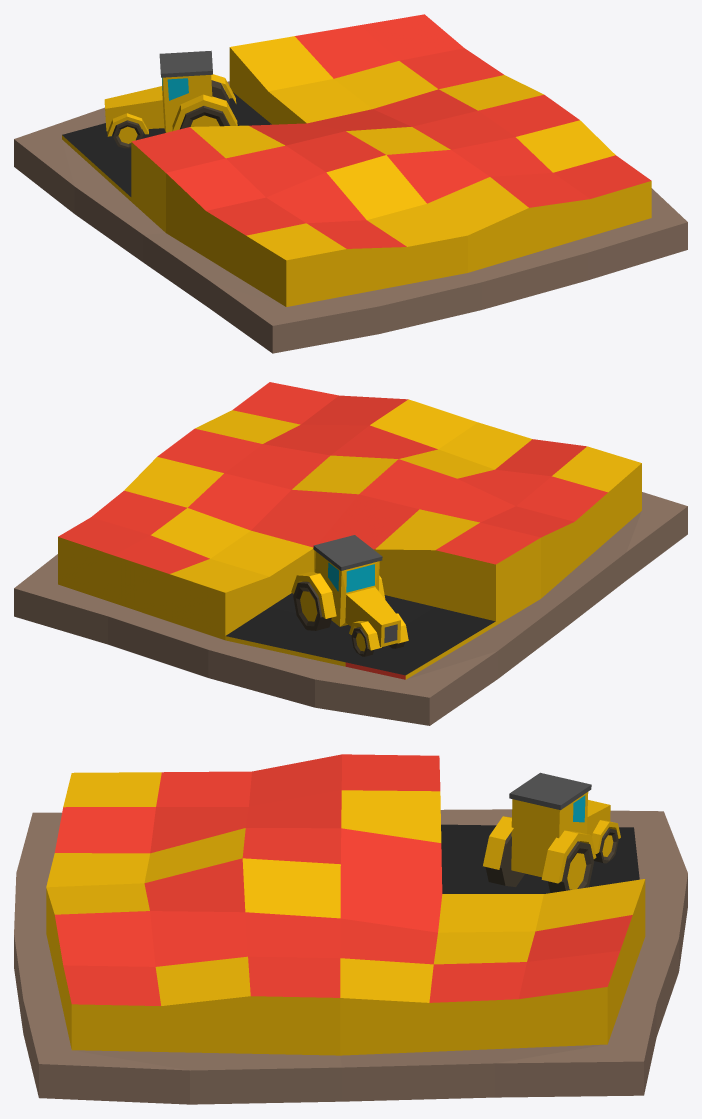
File: FarmWheat.fbx
The picture shows the model from 3 angles, top to bottom: view 1: azimuth 30°, elevation 25°; view 2: azimuth 150°, elevation 25°; view 3: azimuth 270°, elevation 25°; orthographic projection. The views are drawn at different scales.
Visible parts, largest first — view 1: Cube.043; view 2: Cube.043; view 3: Cube.043.
Part boxes in pixels (x1,y1,x2,y2): Cube.043: [14, 14, 687, 353]; Cube.043: [14, 382, 687, 725]; Cube.043: [14, 754, 687, 1104].
Size of the model in its own units: 177 by 42.36 by 193.
